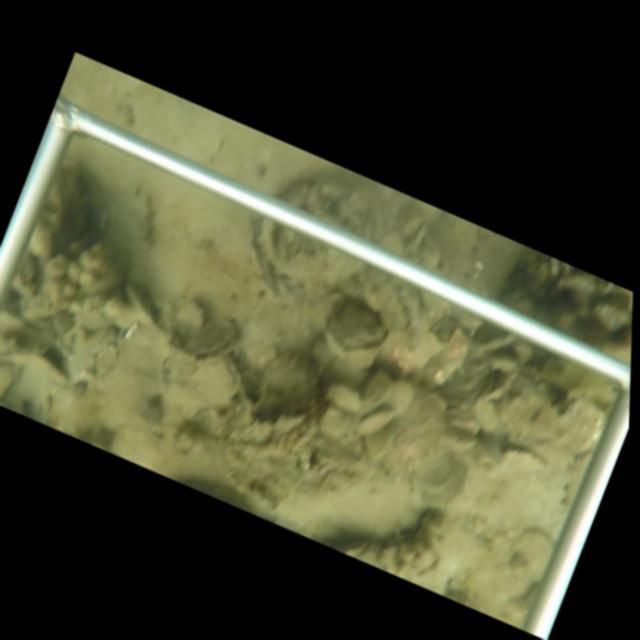Oyster-Closed: (404, 220, 427, 255)
Oyster-Open: (189, 348, 243, 408)
